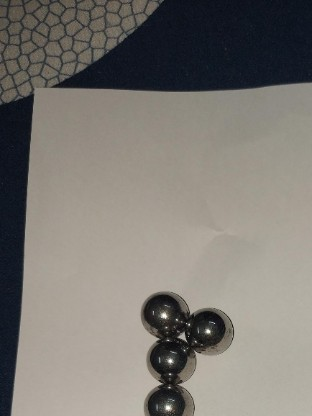ironball: (182, 297, 239, 353), (136, 283, 190, 338), (142, 337, 198, 386), (137, 376, 194, 412)
